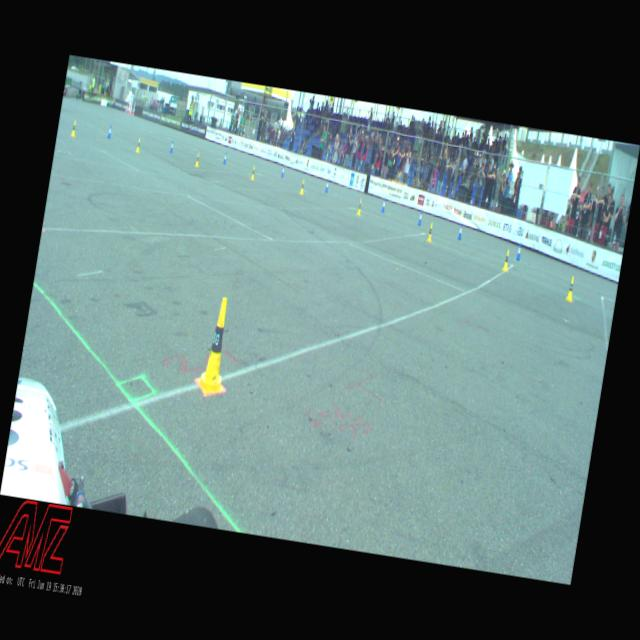blue_cone: (516, 244, 522, 261), (458, 224, 463, 240), (381, 198, 386, 212), (418, 210, 422, 226), (108, 125, 112, 138), (170, 140, 174, 153), (325, 180, 329, 192), (223, 152, 227, 164), (282, 165, 286, 177)
large_orange_cone: (132, 102, 136, 115), (128, 102, 131, 113)
orange_cone: (113, 98, 115, 104)
yellow_cone: (196, 296, 237, 395), (566, 276, 576, 302), (502, 250, 510, 270), (427, 224, 434, 242), (71, 120, 77, 136), (357, 199, 362, 215), (250, 167, 256, 180), (136, 138, 141, 152), (300, 180, 305, 194), (196, 153, 200, 167)
